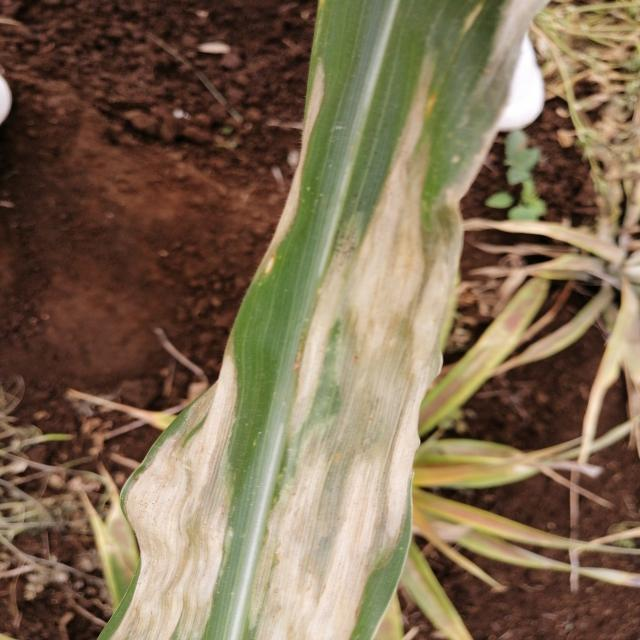Corn_Leaf_Blight: (100, 0, 530, 640)
